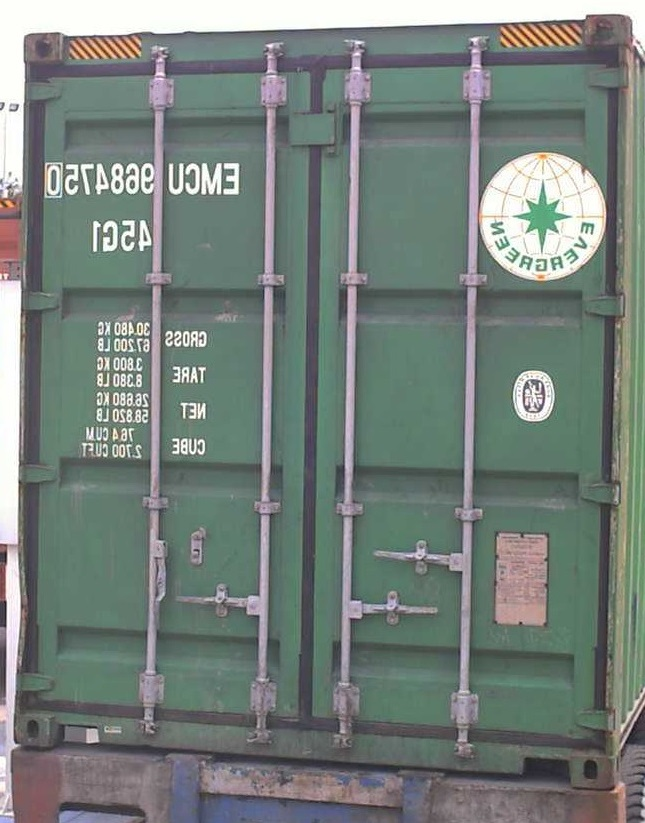container_door: (19, 13, 632, 746)
